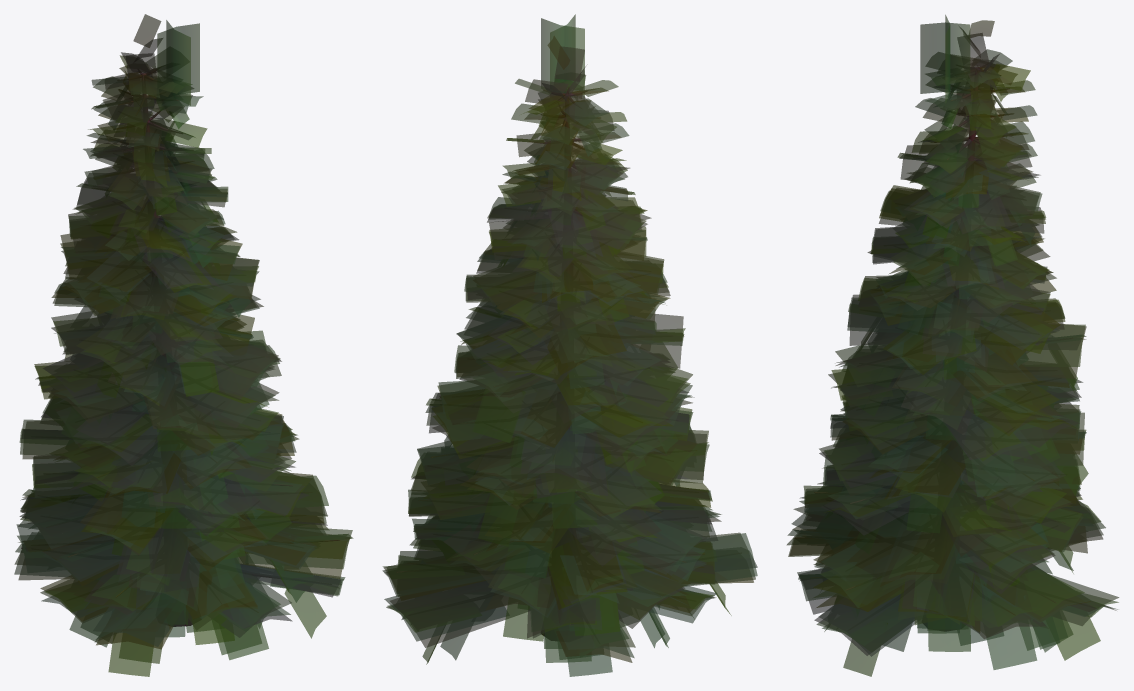
The model's file is veg_spruce_a.glb.
3 views of the same model, side by side, from view 1: azimuth 30°, elevation 25°; view 2: azimuth 150°, elevation 25°; view 3: azimuth 270°, elevation 25° (orthographic). The views are drawn at different scales.
Parts seen in each view (by area): view 1: veg_spruce_a_LOD0; view 2: veg_spruce_a_LOD0; view 3: veg_spruce_a_LOD0.
Part boxes in pixels (x1,y1,x2,y2): veg_spruce_a_LOD0: [14, 14, 353, 676]; veg_spruce_a_LOD0: [382, 14, 757, 676]; veg_spruce_a_LOD0: [787, 15, 1118, 676].
Size of what is drawn, in the model's own units: 1.93 by 4.01 by 2.01.
